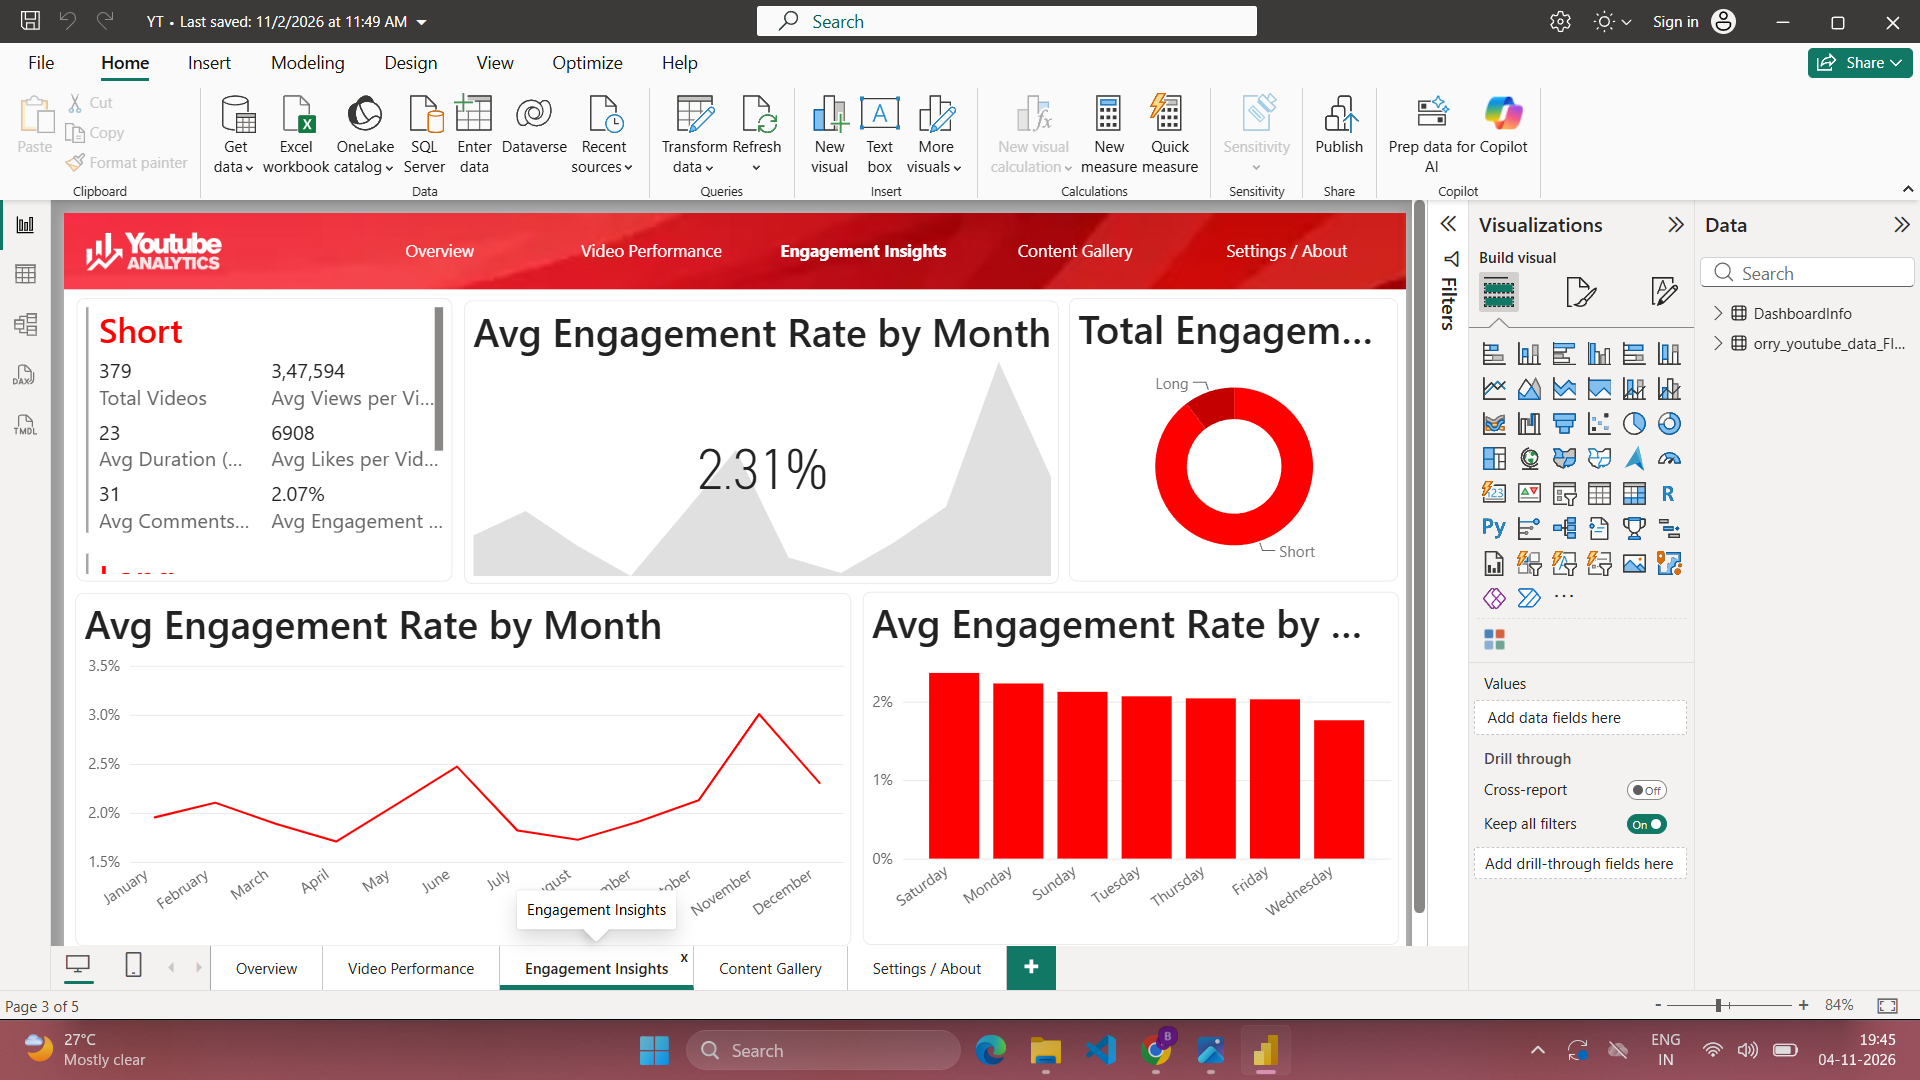

This screenshot's page, from the dashboard's own definition file:
{"tool":"powerbi","page":{"name":"Engagement Insights","canvas":[1280,720],"ordinal":2},"visuals":[{"type":"lineChart","fields":{"Category":["orry_youtube_data_FINAL.publish_date.Variation.Date Hierarchy.Month"],"Y":["orry_youtube_data_FINAL.Avg Engagement Rate"]},"box":[11.1,362.2,740,336.7],"z":0},{"type":"donutChart","fields":{"Category":["orry_youtube_data_FINAL.video_type"],"Y":["orry_youtube_data_FINAL.Total Engagement"]},"box":[958.9,81.1,313.3,270],"z":1000},{"type":"columnChart","fields":{"Category":["orry_youtube_data_FINAL.Weekday Name"],"Y":["orry_youtube_data_FINAL.Avg Engagement Rate"]},"box":[761.1,361.1,511.1,336.7],"z":2000},{"type":"kpi","fields":{"Indicator":["orry_youtube_data_FINAL.Avg Engagement Rate"],"TrendLine":["orry_youtube_data_FINAL.publish_date.Variation.Date Hierarchy.Month"]},"box":[381.4,82.9,567.1,270],"z":3000},{"type":"multiRowCard","fields":{"Values":["orry_youtube_data_FINAL.Total Videos","orry_youtube_data_FINAL.Avg Views per Video","orry_youtube_data_FINAL.Avg Duration (Seconds)","orry_youtube_data_FINAL.Avg Likes per Video","orry_youtube_data_FINAL.Avg Comments per Video","orry_youtube_data_FINAL.Avg Engagement Rate","orry_youtube_data_FINAL.video_type"]},"box":[11.4,81.4,358.6,270],"z":4000},{"type":"image","box":[0,0,1280,72.9],"z":4001},{"type":"pageNavigator","box":[261.9,12.5,1001.2,47.5],"z":4002},{"type":"image","box":[16.2,0,151.2,72.5],"z":4003}]}

Visuals, with their boxes on the page's 1280x720 design canvas (x1, y1, x2, y2). These are canvas units, not pixel positions in the 1920x1080 screenshot, which may show the page scaled, cropped or inside an application window:
lineChart - orry_youtube_data_FINAL.publish_date.Variation.Date Hierarchy.Month x orry_youtube_data_FINAL.Avg Engagement Rate: l=11, t=362, r=751, b=699
donutChart - orry_youtube_data_FINAL.video_type x orry_youtube_data_FINAL.Total Engagement: l=959, t=81, r=1272, b=351
columnChart - orry_youtube_data_FINAL.Weekday Name x orry_youtube_data_FINAL.Avg Engagement Rate: l=761, t=361, r=1272, b=698
kpi - orry_youtube_data_FINAL.Avg Engagement Rate x orry_youtube_data_FINAL.publish_date.Variation.Date Hierarchy.Month: l=381, t=83, r=948, b=353
multiRowCard - orry_youtube_data_FINAL.Total Videos x orry_youtube_data_FINAL.Avg Views per Video: l=11, t=81, r=370, b=351
image: l=0, t=0, r=1280, b=73
pageNavigator: l=262, t=12, r=1263, b=60
image: l=16, t=0, r=167, b=72
